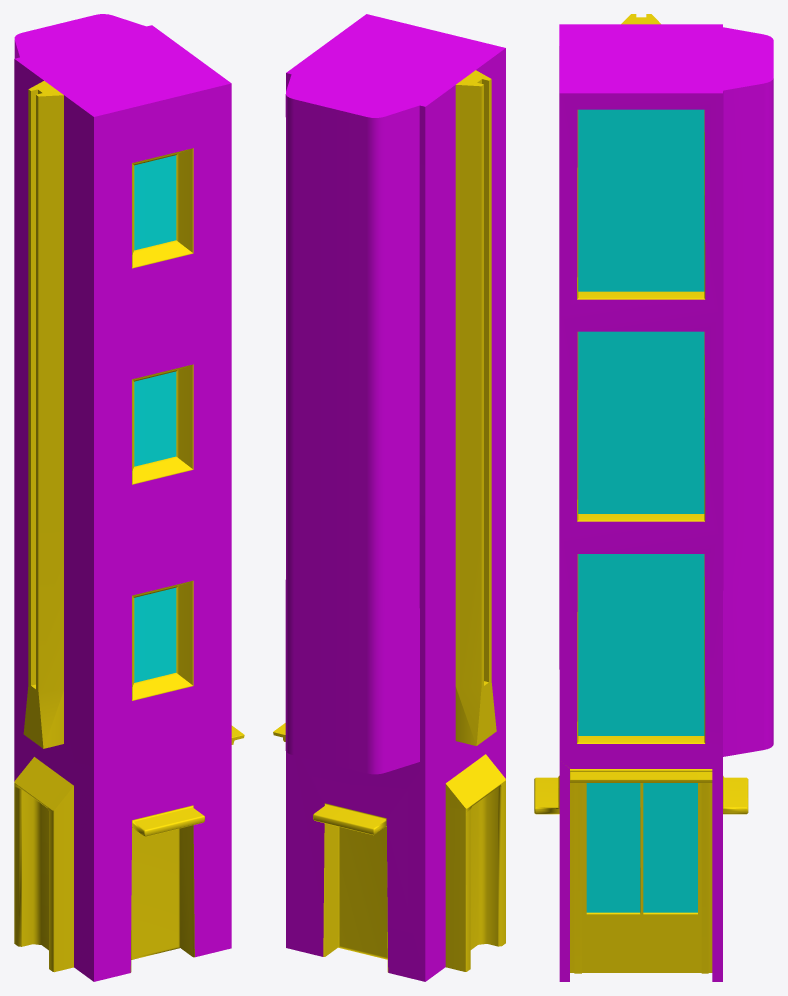
The picture shows the model from 3 angles, left to right: view 1: azimuth 30°, elevation 25°; view 2: azimuth 150°, elevation 25°; view 3: azimuth 270°, elevation 25°; orthographic projection. The views are drawn at different scales.
Parts seen in each view (by area): view 1: B_01; view 2: B_01; view 3: B_01.
Boxes of the visible parts, bbox=[...] form: B_01: bbox=[14, 14, 244, 981]; B_01: bbox=[273, 14, 505, 981]; B_01: bbox=[534, 14, 773, 981].
Size of the model in its own units: 256 by 1200 by 293.
